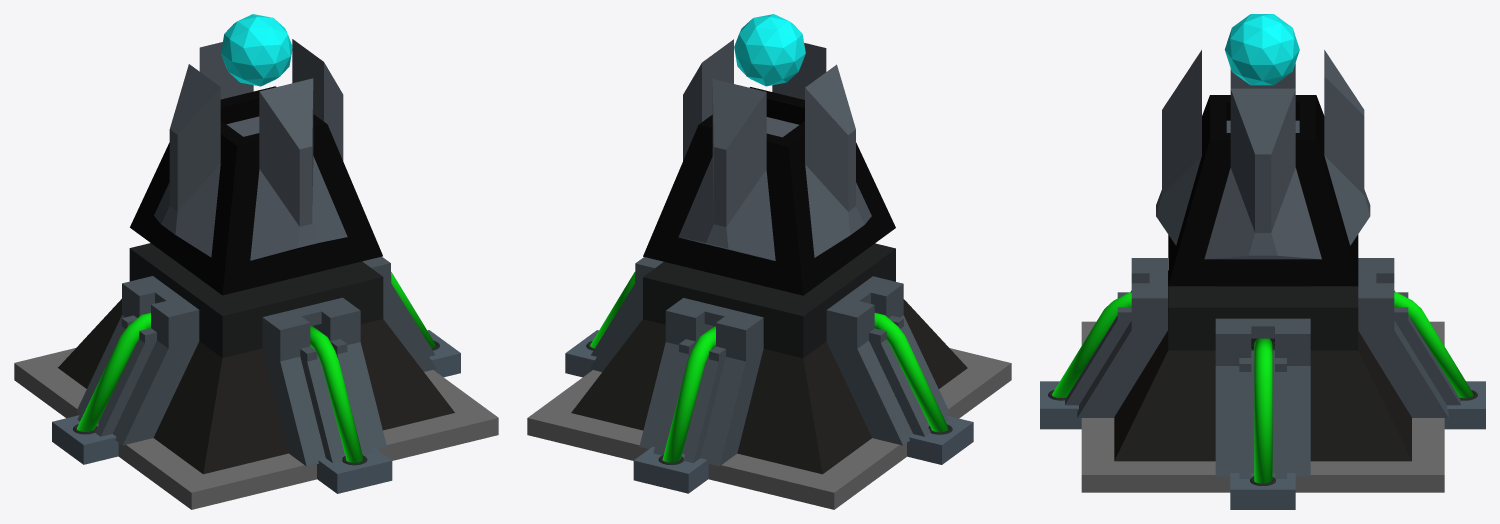
3 renders of one model, left to right at view 1: azimuth 30°, elevation 25°; view 2: azimuth 150°, elevation 25°; view 3: azimuth 270°, elevation 25°, orthographic. The views are drawn at different scales.
Visible parts, largest first — view 1: TopTrapezoid, Base, Platform, PipeBase.003, BottomRectangle, PipeBase.002, FloatingBall, Pipe.003, PipeBase, Pipe.002, PipeEndBase.003, PipeEndBase.002 (+2 smaller); view 2: TopTrapezoid, Base, Platform, PipeBase.001, BottomRectangle, PipeBase.002, FloatingBall, Pipe.001, PipeBase, Pipe.002, PipeEndBase.001, PipeEndBase.002 (+2 smaller); view 3: TopTrapezoid, Base, PipeBase, Platform, BottomRectangle, PipeBase.003, PipeBase.001, FloatingBall, Pipe, PipeEndBase, Pipe.001, Pipe.003 (+2 smaller).
Boxes of the visible parts, x1,y1,x2,y2 form: TopTrapezoid: (130,39,382,295); Base: (58,299,454,474); Platform: (14,348,498,509); PipeBase.003: (262,297,386,466); BottomRectangle: (129,243,383,357); PipeBase.002: (76,276,199,445); FloatingBall: (221,14,292,86); Pipe.003: (310,326,363,462); PipeBase: (362,256,436,371); Pipe.002: (77,312,150,431); PipeEndBase.003: (317,446,392,493); PipeEndBase.002: (52,415,118,464); TopTrapezoid: (643,39,895,295); Base: (571,299,967,474); Platform: (527,348,1011,509); PipeBase.001: (639,298,763,466); BottomRectangle: (643,243,895,358); PipeBase.002: (826,276,949,445); FloatingBall: (734,14,805,86); Pipe.001: (662,326,715,462); PipeBase: (590,257,663,371); Pipe.002: (874,313,948,432); PipeEndBase.001: (633,446,708,493); PipeEndBase.002: (907,415,973,464); TopTrapezoid: (1156,50,1370,286); Base: (1114,270,1411,461); PipeBase: (1215,318,1310,478); Platform: (1081,321,1444,492); BottomRectangle: (1168,286,1358,350); PipeBase.003: (1065,258,1167,417); PipeBase.001: (1358,258,1460,417); FloatingBall: (1224,14,1299,85); Pipe: (1254,338,1272,483); PipeEndBase: (1230,473,1295,509); Pipe.001: (1394,292,1473,398); Pipe.003: (1052,292,1131,397).
Size of the model in its own units: 466 by 462 by 466.
